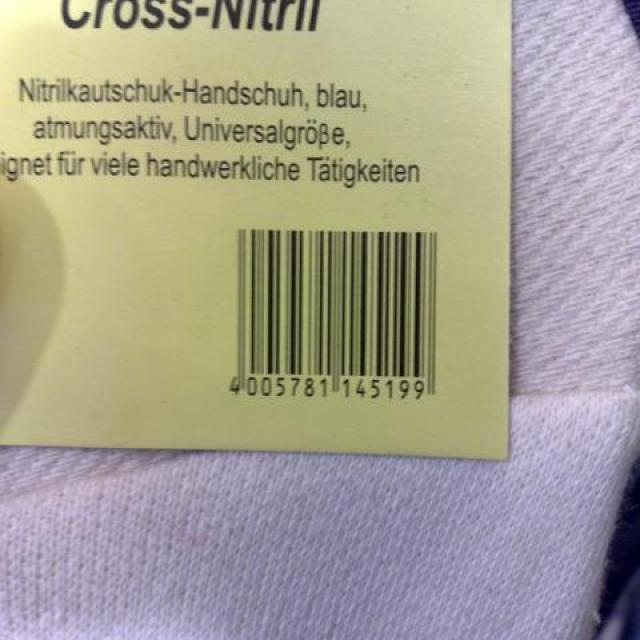Barcode: (222, 216, 449, 416)
